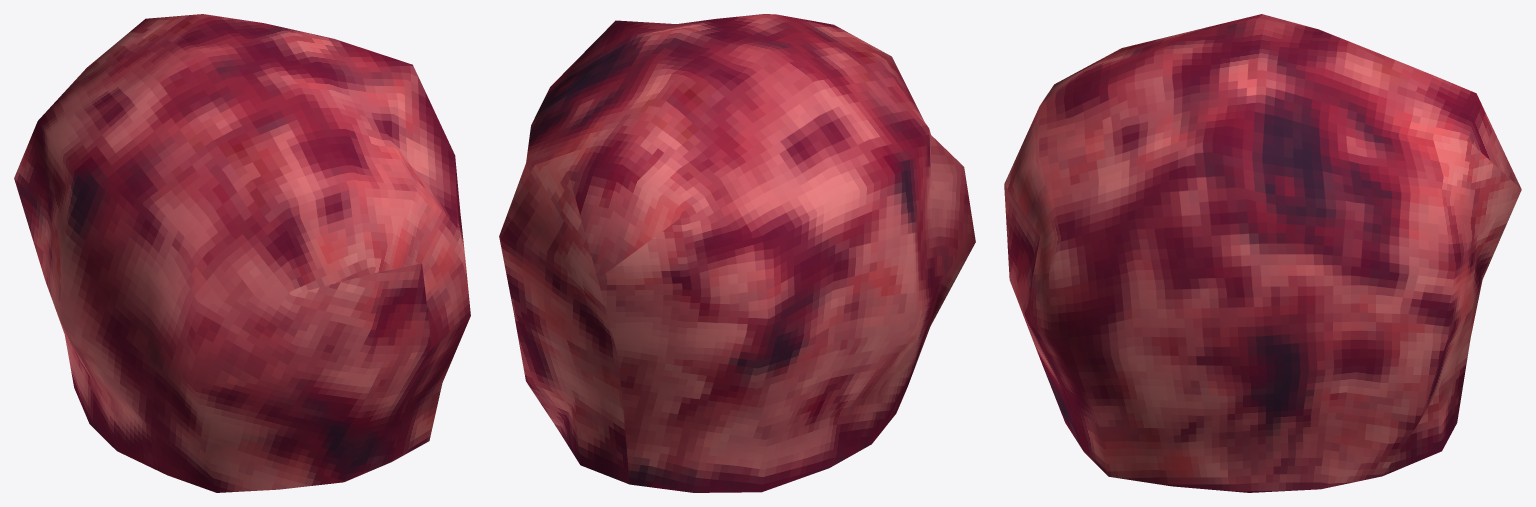
File: Mesh_Polyp.fbx
The picture shows the model from 3 angles, left to right: view 1: azimuth 30°, elevation 25°; view 2: azimuth 150°, elevation 25°; view 3: azimuth 270°, elevation 25°; orthographic projection. The views are drawn at different scales.
Parts seen in each view (by area): view 1: geo_Polyp; view 2: geo_Polyp; view 3: geo_Polyp.
Boxes of the visible parts, left/top/right/bottom form: geo_Polyp: left=14, top=14, right=470, bottom=492; geo_Polyp: left=499, top=14, right=975, bottom=492; geo_Polyp: left=1004, top=14, right=1521, bottom=492.
Size of the model in its own units: 91.48 by 86.06 by 106.
